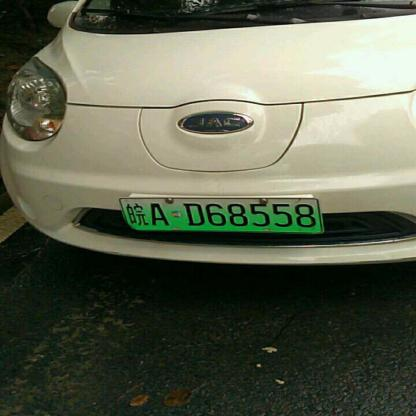lp: (120, 198, 321, 231)
